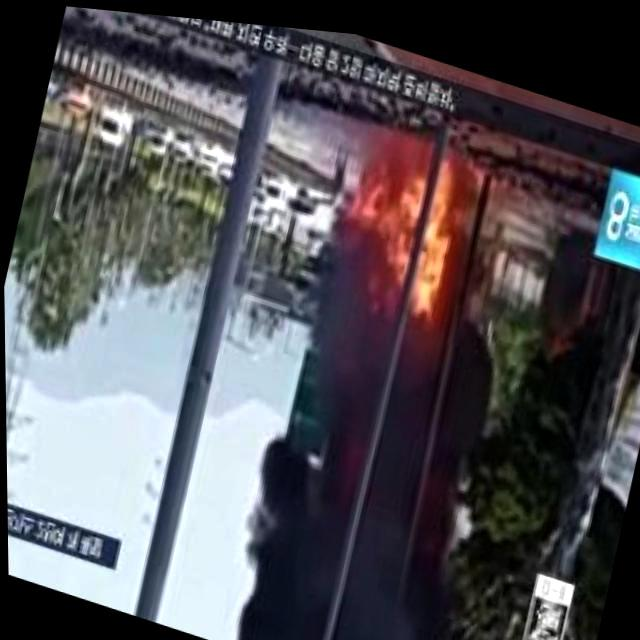fire: (354, 114, 488, 294)
